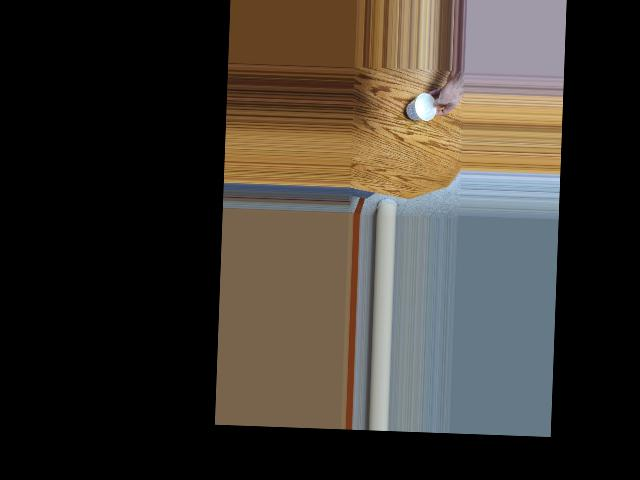cotage: (407, 94, 439, 120)
